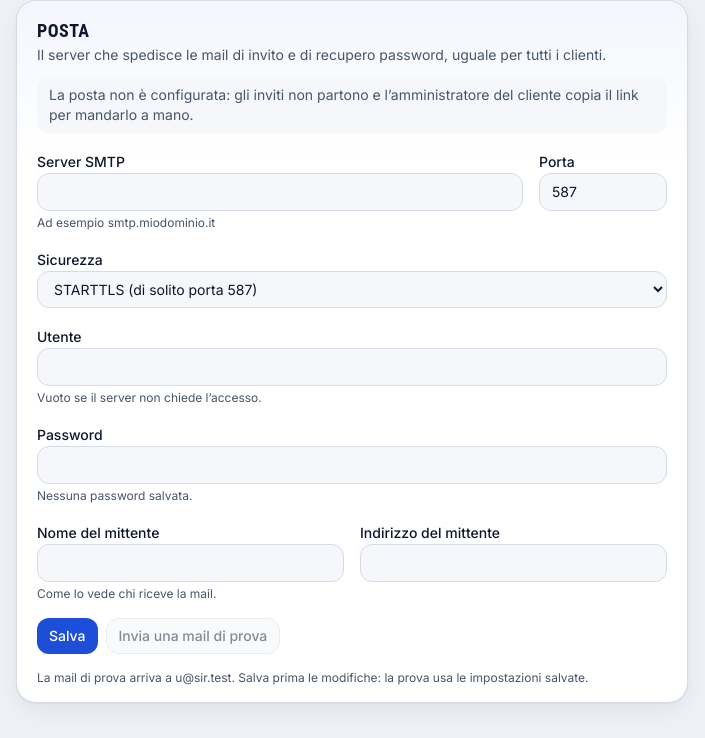
«Posta» page › says that the mail is not configured and saves the settings with the password
Check: the text "La posta non è configurata" is shown, box left=49, top=86, right=639, bottom=123
Check: the button "Invia una mail di prova" is disabled, box left=106, top=618, right=280, bottom=654
Type "smtp.club.it" into the field labelled "Server SMTP". click: {"x": 280, "y": 192}
box: left=37, top=173, right=523, bottom=211
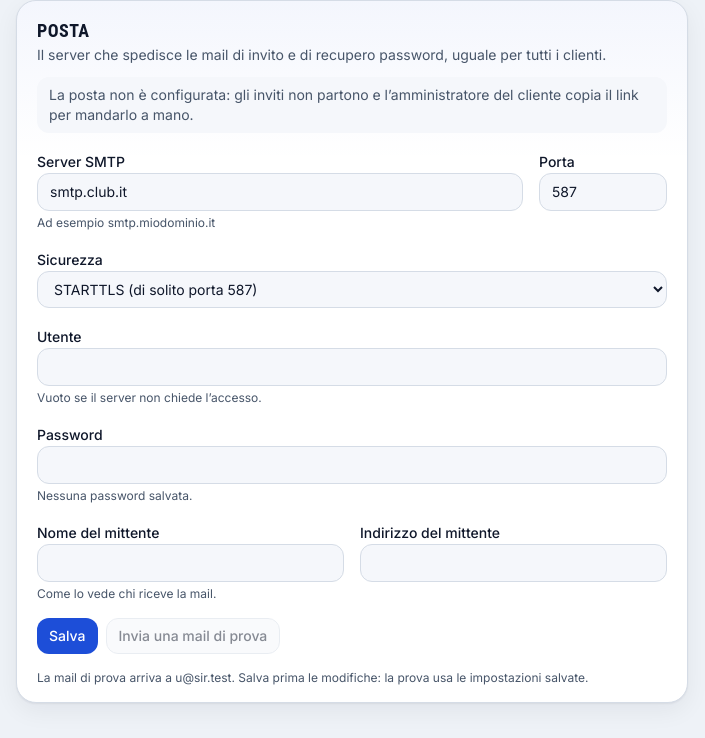
Type "robot" into the field labelled "Utente". click: {"x": 352, "y": 367}
box: left=37, top=348, right=667, bottom=386
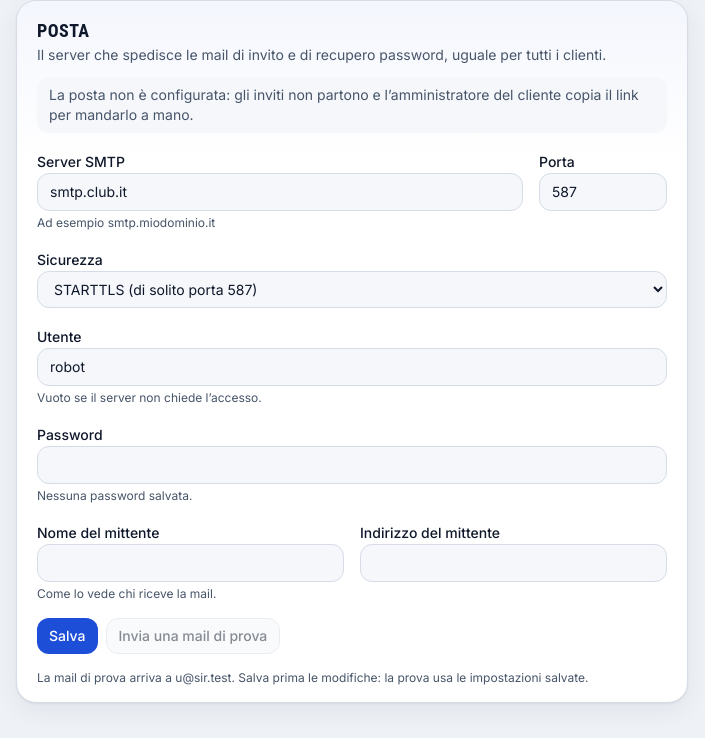
Type "segreta" into the password field labelled "Password Nessuna password salvata.". click: {"x": 352, "y": 465}
box: left=37, top=446, right=667, bottom=484
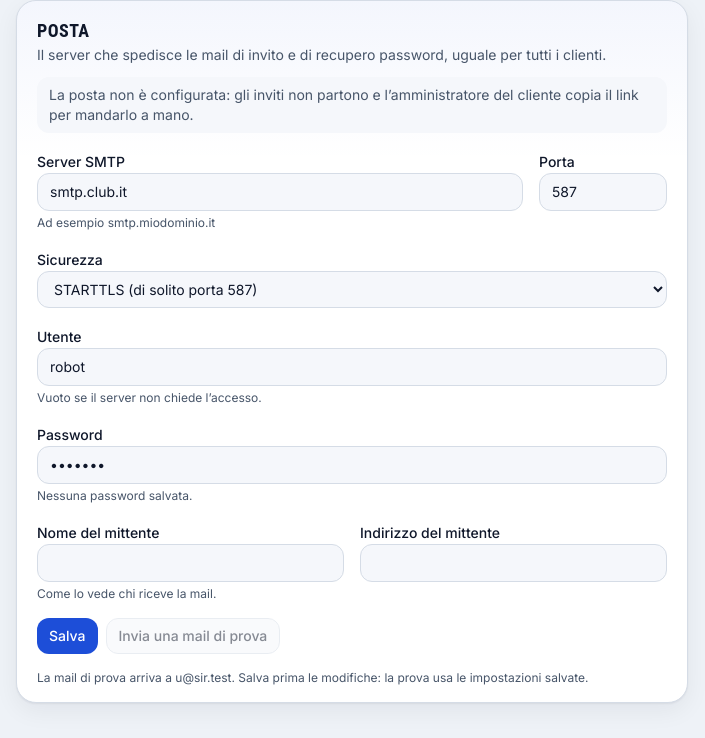
Type "Club" into the field labelled "Nome del mittente". click: {"x": 190, "y": 563}
box: left=37, top=544, right=344, bottom=582
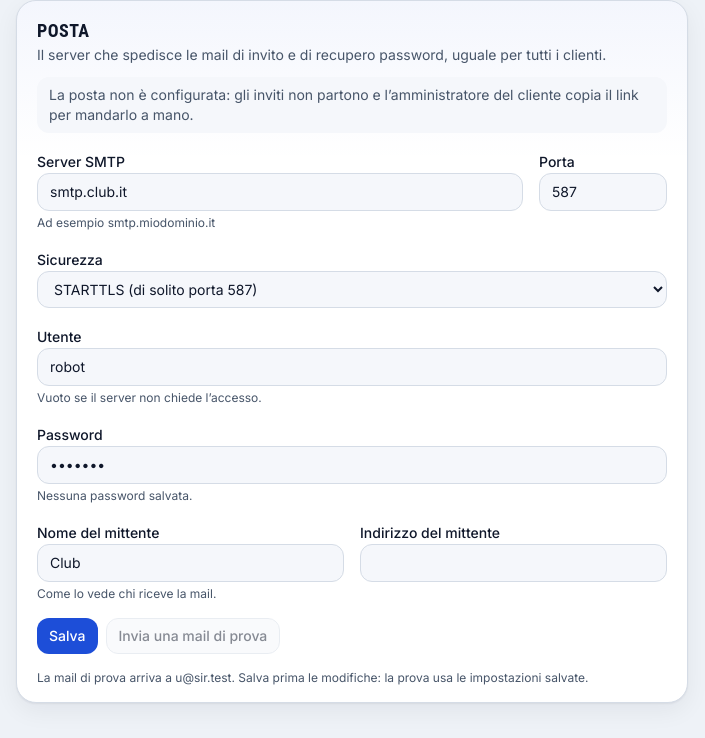
Type "noreply@club.it" into the field labelled "Indirizzo del mittente". click: {"x": 514, "y": 563}
box: left=360, top=544, right=667, bottom=582
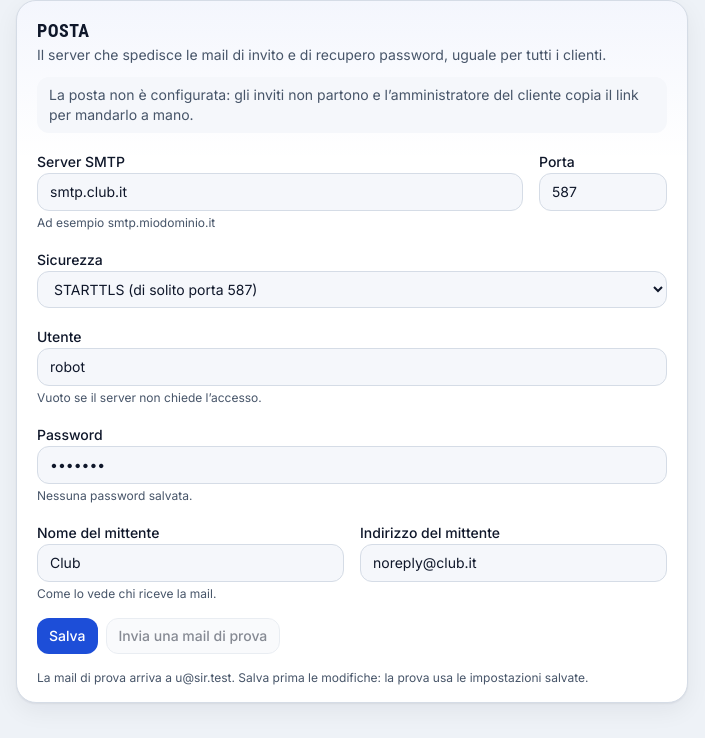
Click the button "Salva". click: {"x": 67, "y": 636}
box: left=37, top=618, right=98, bottom=654
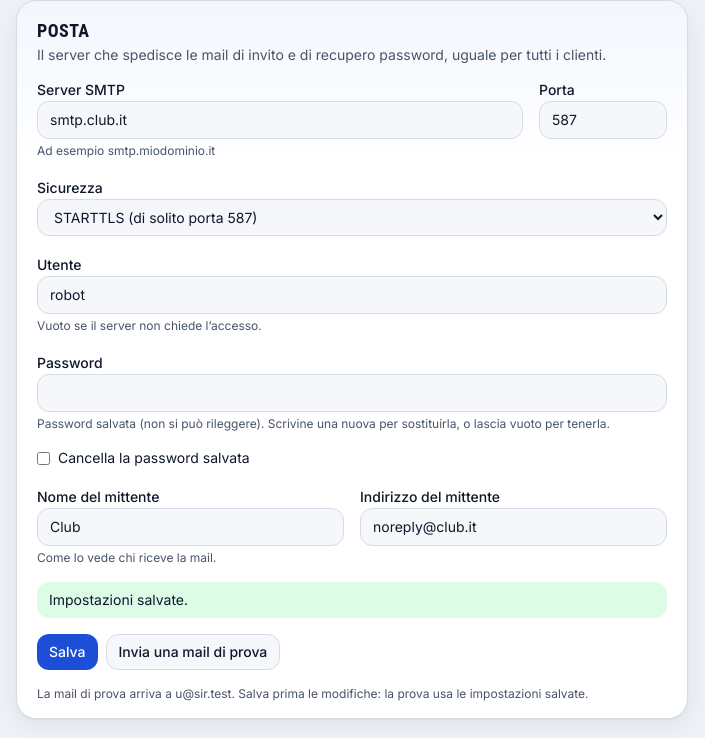
Check: the text "Password salvata" is shown, box left=37, top=416, right=610, bottom=431
Check: the text "Impostazioni salvate." is shown, box left=37, top=582, right=667, bottom=618
Check: the password field labelled "Password" is empty, box left=37, top=374, right=667, bottom=412
